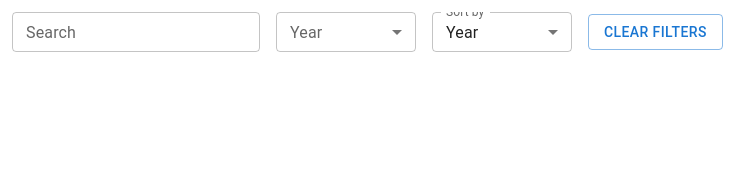
Test case: CarFilters › lets the user sort by make and by year and reports the choice
Click the dropdown named "sort".
click(462, 32)  # box [446,22,478,42]
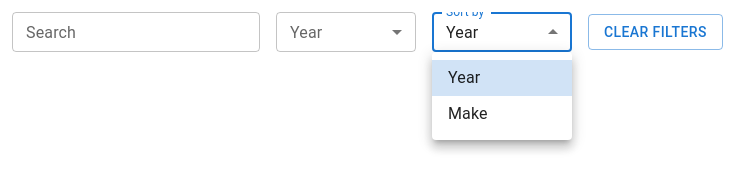
Check: the number of options is 2
Check: the option "Year" is shown, box [432,60,572,96]
Check: the option "Make" is shown
Click the option "Make".
click(468, 114)  # box [448,104,488,123]
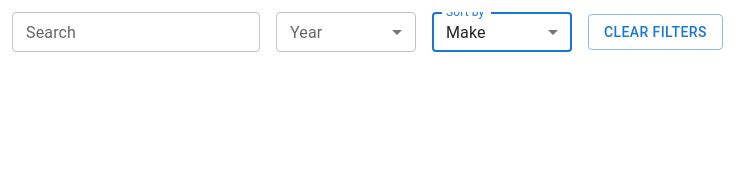
Check: the dropdown named "sort" reads "Make"
Click the dropdown named "sort".
click(466, 32)  # box [446,22,486,42]
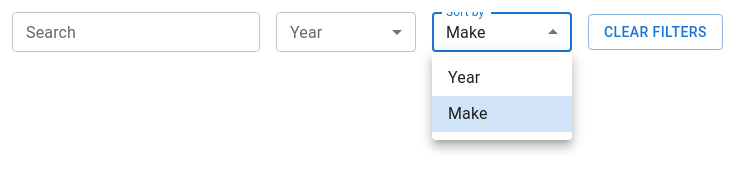
Click the option "Year".
click(464, 78)  # box [448,68,480,87]
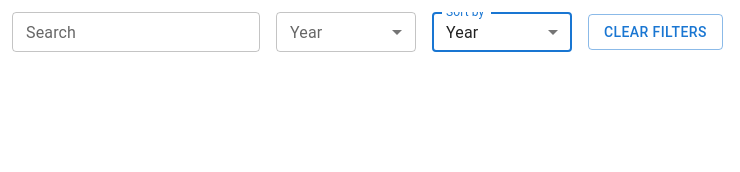
Check: the dropdown named "sort" reads "Year", box [446,22,478,42]
